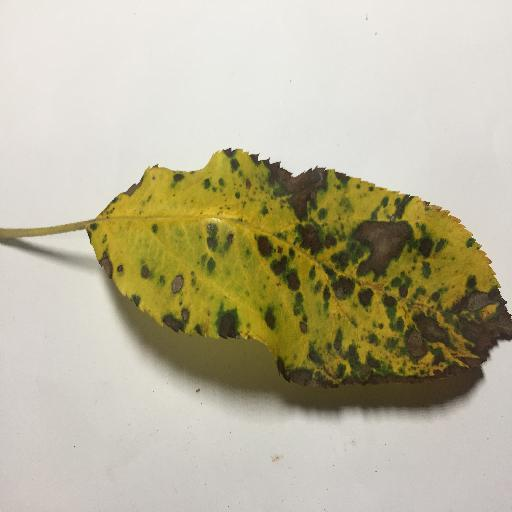Brown_Spot: (208, 120, 504, 407)
